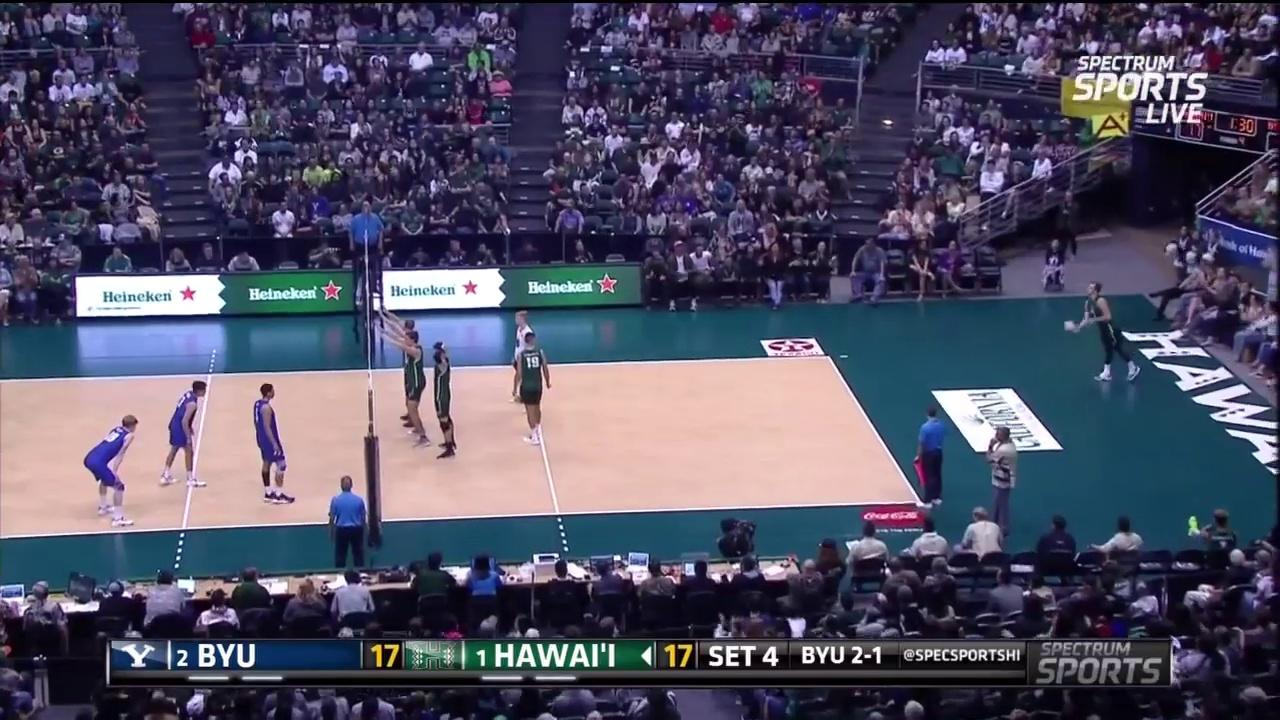player: (84, 417, 137, 525), (161, 378, 208, 487), (510, 326, 550, 443), (252, 386, 290, 502), (386, 311, 424, 427), (397, 329, 433, 449), (421, 338, 458, 453), (509, 306, 544, 406)
refree: (326, 475, 373, 568), (911, 400, 949, 509), (351, 201, 386, 294)
